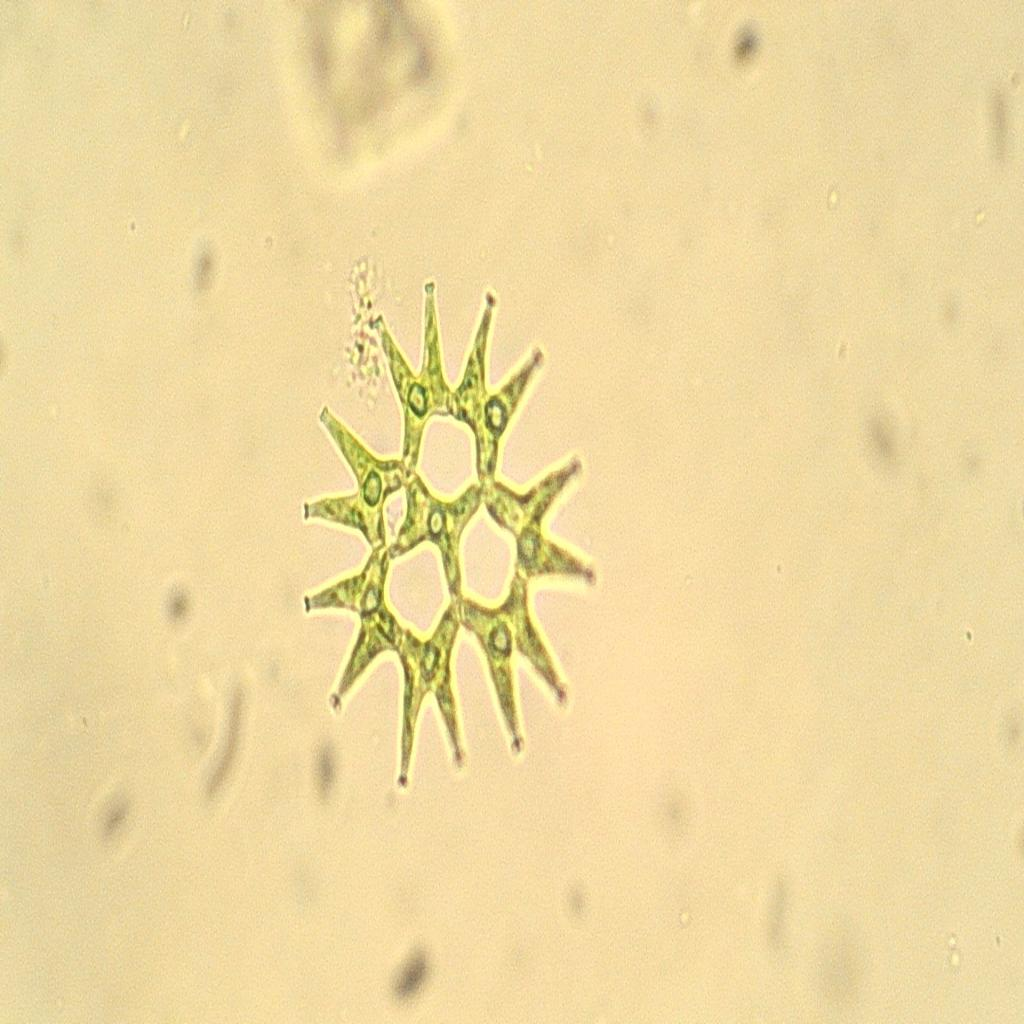Pediastrum_CTH: (296, 273, 606, 807)
